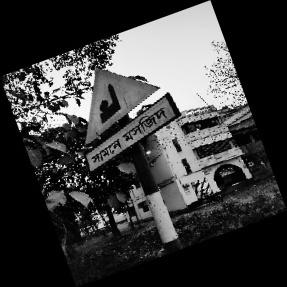Mosque in front: (84, 68, 179, 175)
